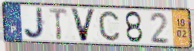2: (148, 11, 170, 45)
8: (124, 10, 144, 44)
C: (98, 10, 121, 42)
J: (22, 7, 47, 40)
T: (48, 7, 69, 41)
V: (69, 7, 98, 43)
